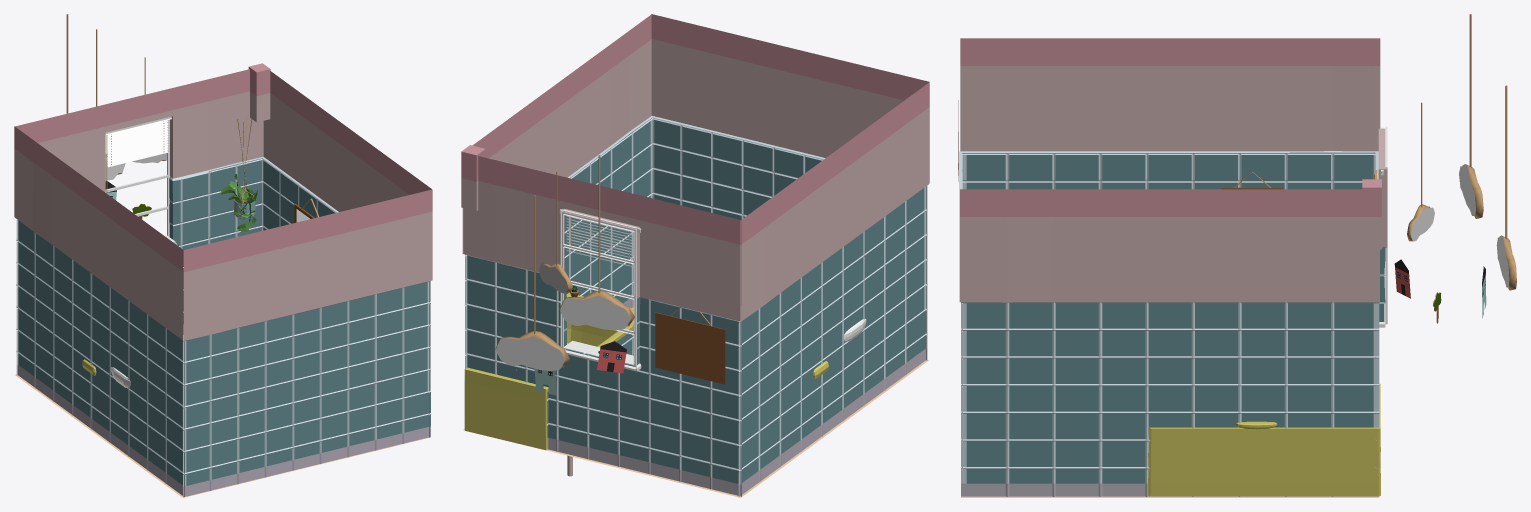
3 views of the same model, side by side, from view 1: azimuth 30°, elevation 25°; view 2: azimuth 150°, elevation 25°; view 3: azimuth 270°, elevation 25° (orthographic). The views are drawn at different scales.
Visible parts, largest first — view 1: Wall_Front, Wall_Left, Wall_Window, Wall_Right, Blinds_Up, Hanging, Accent, Blinds_Down, Floor, Window; view 2: Wall_Window, Wall_Left, Wall_Front, Wall_Right, Bath, Email, Window, Cloud, Cloud.001, Accent, Floor, Cloud.002 (+3 smaller); view 3: Wall_Right, Wall_Left, Bath, Accent, Cloud, Wall_Window, Cloud.001, Cloud.002, Floor.
Boxes of the visible parts, bbox=[...] form: Wall_Front: bbox=[183, 189, 432, 497]; Wall_Left: bbox=[14, 126, 184, 496]; Wall_Window: bbox=[15, 69, 263, 375]; Wall_Right: bbox=[262, 71, 431, 437]; Blinds_Up: bbox=[107, 120, 168, 156]; Hanging: bbox=[220, 116, 258, 231]; Accent: bbox=[248, 63, 270, 122]; Blinds_Down: bbox=[107, 132, 168, 167]; Floor: bbox=[15, 335, 430, 497]; Window: bbox=[105, 119, 177, 244]; Wall_Window: bbox=[463, 156, 741, 496]; Wall_Left: bbox=[738, 82, 929, 496]; Wall_Front: bbox=[651, 14, 929, 360]; Wall_Right: bbox=[462, 14, 652, 368]; Bath: bbox=[464, 293, 633, 450]; Email: bbox=[655, 307, 725, 384]; Window: bbox=[560, 209, 641, 371]; Cloud: bbox=[559, 155, 634, 330]; Cloud.001: bbox=[495, 195, 569, 370]; Accent: bbox=[461, 145, 485, 211]; Floor: bbox=[463, 307, 928, 497]; Cloud.002: bbox=[539, 171, 572, 293]; Wall_Right: bbox=[960, 189, 1379, 496]; Wall_Left: bbox=[960, 38, 1380, 189]; Bath: bbox=[1148, 383, 1380, 496]; Accent: bbox=[1362, 179, 1381, 249]; Cloud: bbox=[1459, 14, 1483, 218]; Wall_Window: bbox=[1375, 128, 1387, 468]; Cloud.001: bbox=[1496, 85, 1516, 290]; Cloud.002: bbox=[1407, 102, 1434, 241]; Floor: bbox=[961, 496, 1379, 497].
Size of the model in its own units: 42.06 by 53.07 by 64.61.
43 materials, 3 textured.
